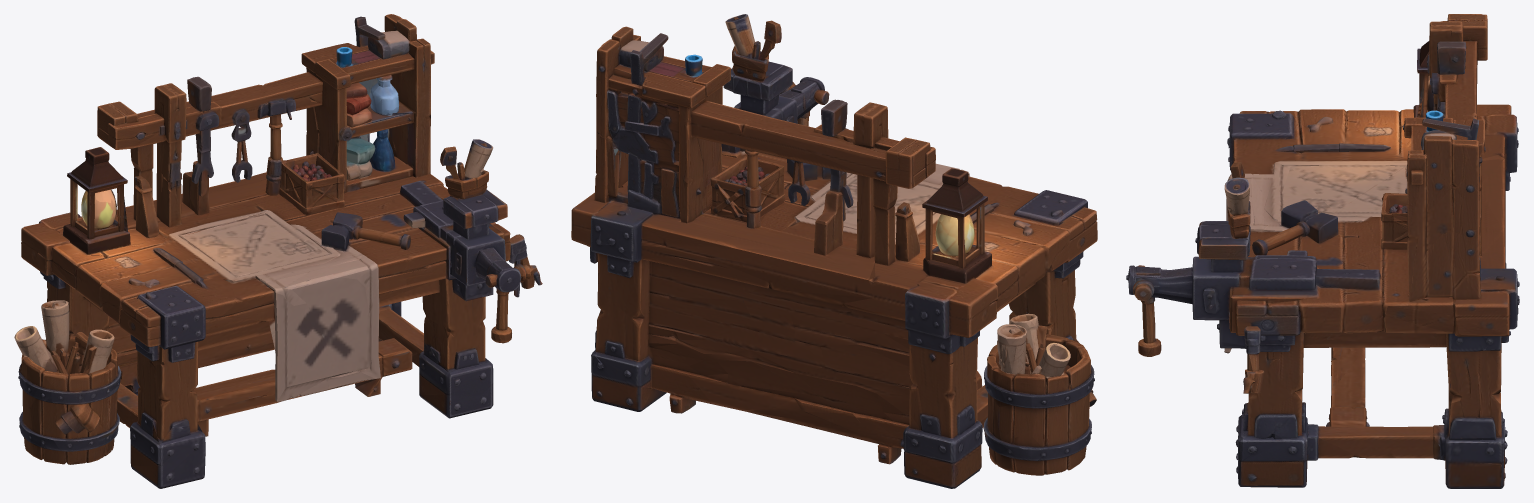
File: Meshy_AI_Artisan_Workbench_1102132306_texture.glb
The picture shows the model from 3 angles, left to right: view 1: azimuth 30°, elevation 25°; view 2: azimuth 150°, elevation 25°; view 3: azimuth 270°, elevation 25°; orthographic projection. The views are drawn at different scales.
Parts seen in each view (by area): view 1: output_unwrapped; view 2: output_unwrapped; view 3: output_unwrapped.
Part boxes in pixels (x1,y1,x2,y2): output_unwrapped: (14, 14, 542, 488); output_unwrapped: (571, 14, 1097, 488); output_unwrapped: (1126, 14, 1519, 488).
Size of the model in its own units: 1.89 by 1.28 by 1.28.
Materials: 1 (1 with a texture image).
